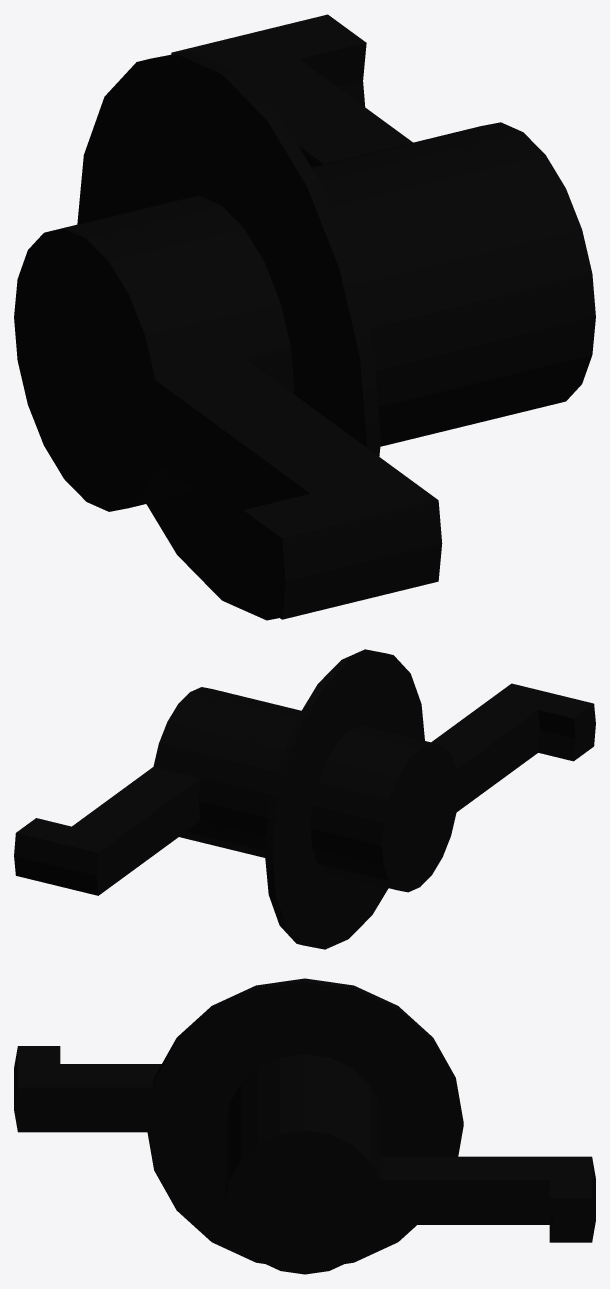
The model's file is mechanisme_velo.fbx.
3 renders of one model, top to bottom at view 1: azimuth 30°, elevation 25°; view 2: azimuth 150°, elevation 25°; view 3: azimuth 270°, elevation 25°, orthographic. The views are drawn at different scales.
Parts seen in each view (by area): view 1: mechanisme; view 2: mechanisme; view 3: mechanisme.
Boxes of the visible parts, left/top/right/bottom form: mechanisme: left=14, top=14, right=595, bottom=620; mechanisme: left=14, top=649, right=595, bottom=949; mechanisme: left=14, top=978, right=595, bottom=1274.
Size of the model in its own units: 0.8336 by 0.7339 by 1.35.
